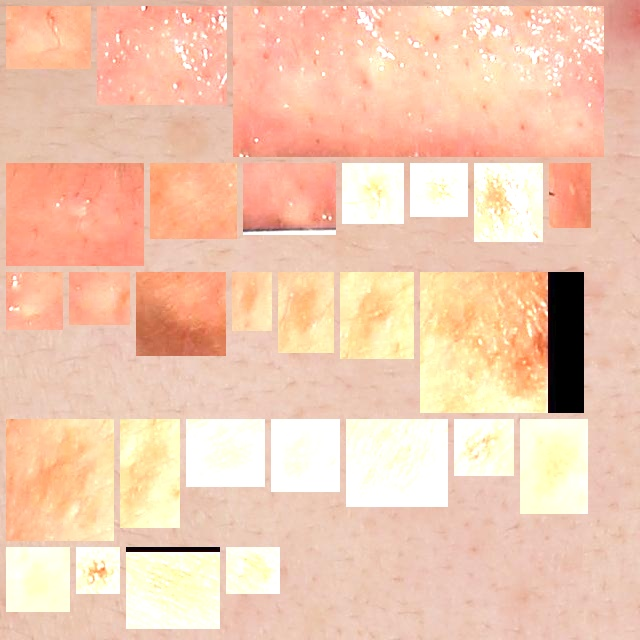hypertrophic_scar: (241, 14, 596, 149), (14, 171, 136, 258), (105, 14, 219, 97), (144, 280, 218, 348), (251, 171, 328, 227), (158, 171, 229, 231), (14, 14, 83, 61), (14, 280, 55, 322), (77, 280, 122, 317)
melasma: (428, 280, 576, 405), (14, 427, 106, 533), (354, 427, 440, 499), (134, 555, 212, 621), (348, 280, 406, 351), (528, 427, 580, 506), (128, 427, 172, 520), (482, 171, 535, 234), (194, 427, 257, 479), (279, 427, 332, 484), (286, 280, 326, 345), (14, 555, 62, 604), (350, 171, 396, 216), (462, 427, 506, 468), (418, 171, 460, 209), (234, 555, 272, 586), (240, 280, 264, 323)
nevus: (84, 555, 112, 586)
pustule: (557, 171, 583, 220)
